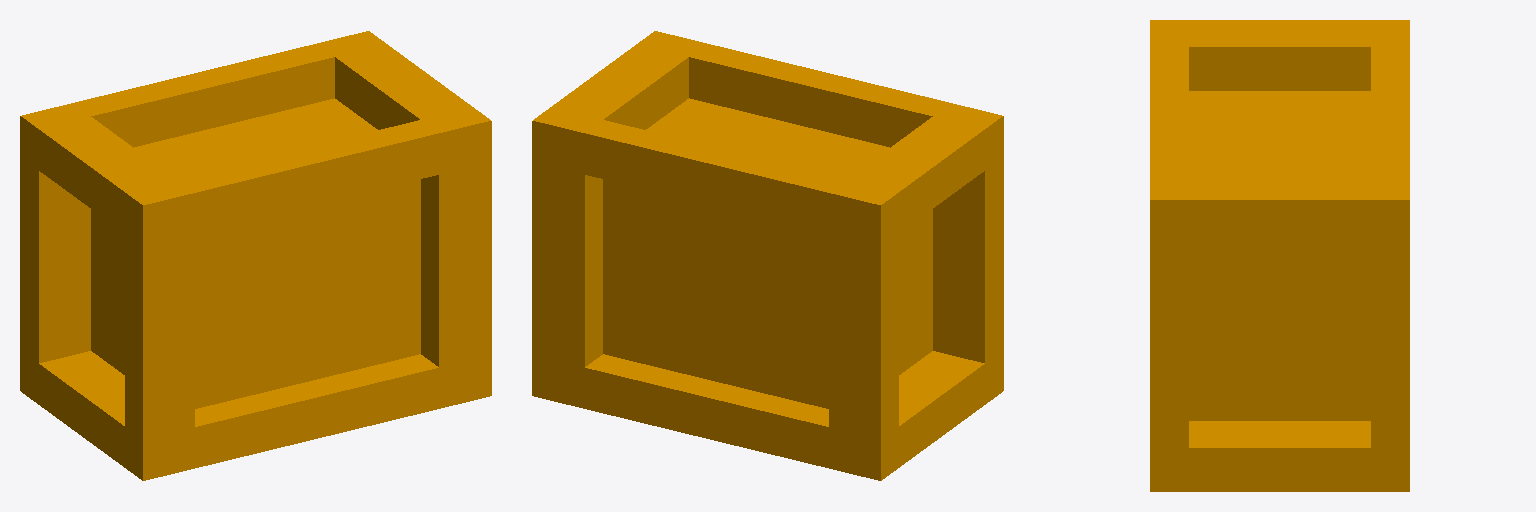
URDF robot description (indented_box):
<?xml version="1.0"?>
<robot name="indented_box">
  <link name="box">

    <!-- Visual -->
    <visual>
      <origin xyz="0 0 0" rpy="0 0 0"/>
      <geometry>
        <mesh filename="indented_box.obj" scale="0.41 0.25 0.31"/>
      </geometry>
    </visual>

    <!-- Collision -->
    <collision>
      <origin xyz="0 0 0" rpy="0 0 0"/>
      <geometry>
        <mesh filename="indented_box.obj" scale="0.41 0.25 0.31"/>
      </geometry>
    </collision>

    <!-- Inertial -->
    <inertial>
      <origin xyz="0 0 0" rpy="0 0 0"/>
      <mass value="10"/>
      <!-- Provide a simple inertia tensor (approximate box). Adjust if needed -->
      <inertia ixx="0.5" iyy="0.5" izz="0.5" ixy="0" ixz="0" iyz="0"/>
    </inertial>

  </link>
</robot>

--- Render facts (derived) ---
The picture shows the robot from 3 angles, left to right: view 1: azimuth 30°, elevation 25°; view 2: azimuth 150°, elevation 25°; view 3: azimuth 270°, elevation 25°; orthographic projection.
Robot: indented_box — 1 links, 0 joints (none); root link box; default pose: all joints at 0.
Links seen in each view (by area): view 1: box; view 2: box; view 3: box.
Link boxes in pixels (<box>): box: <box>20,31,491,480</box>; box: <box>532,31,1003,480</box>; box: <box>1150,20,1409,491</box>.
Size in the robot's own frame: 0.41 by 0.25 by 0.31 metres.
1 mesh visuals loaded from 1 distinct referenced files (1 OBJ).
